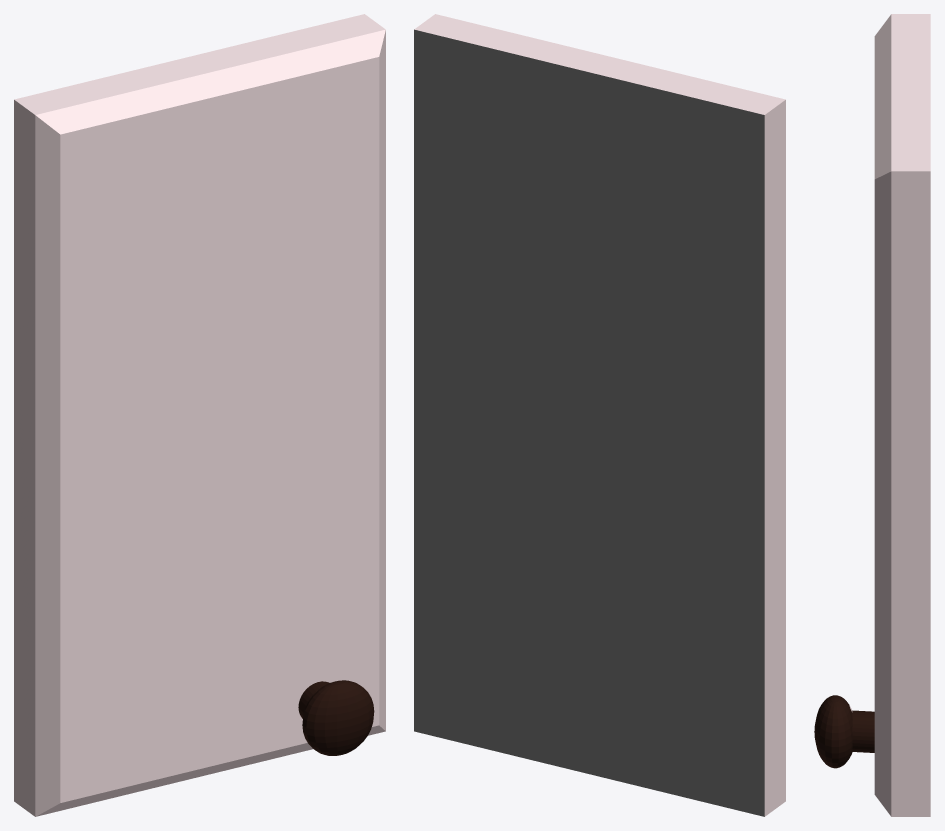
File: PortaEsquerda.fbx
3 views of the same model, side by side, from view 1: azimuth 30°, elevation 25°; view 2: azimuth 150°, elevation 25°; view 3: azimuth 270°, elevation 25° (orthographic). The views are drawn at different scales.
Parts seen in each view (by area): view 1: Sphere.001; view 2: Sphere.001; view 3: Sphere.001.
Part boxes in pixels (bbox=[...]): Sphere.001: bbox=[14, 14, 385, 816]; Sphere.001: bbox=[414, 14, 785, 816]; Sphere.001: bbox=[814, 14, 930, 816].
Bounding box in the file's own units: 92.31 × 177 × 28.78.
